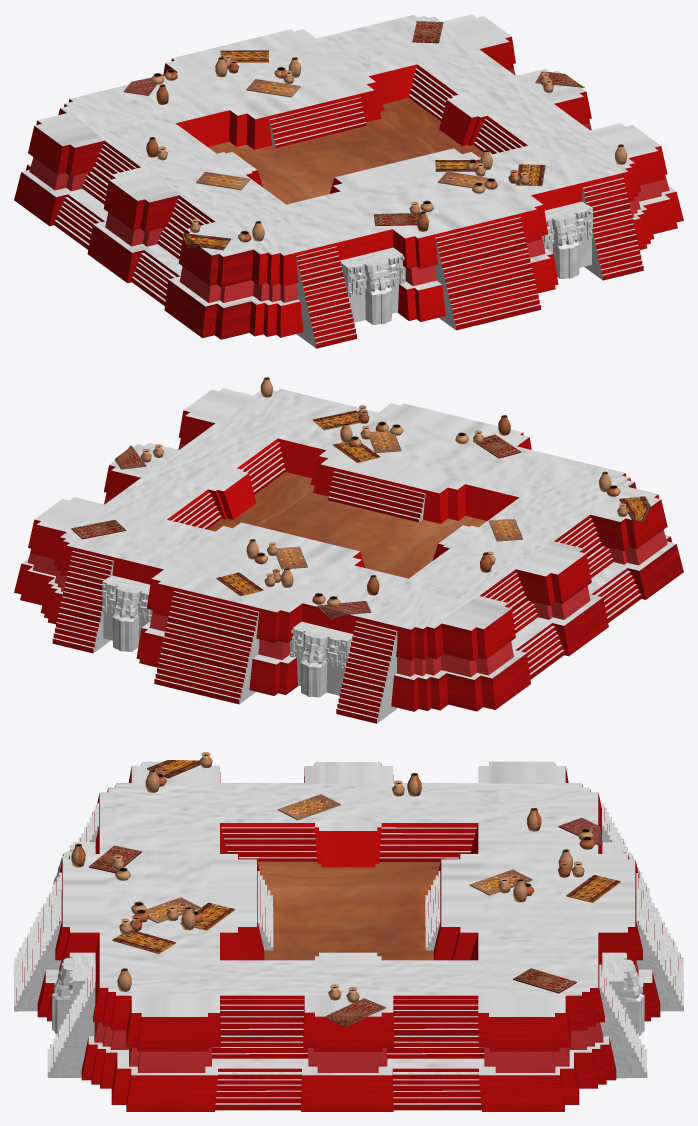
File: resevatorio.dae
3 renders of one model, top to bottom at view 1: azimuth 30°, elevation 25°; view 2: azimuth 150°, elevation 25°; view 3: azimuth 270°, elevation 25°, orthographic. The views are drawn at different scales.
Parts seen in each view (by area): view 1: resev; view 2: resev; view 3: resev.
Boxes of the visible parts, x1,y1,x2,y2 form: resev: (14,14,683,348); resev: (14,377,683,723); resev: (14,752,683,1111).
Bounding box in the file's own units: 37.71 × 39.06 × 7.42.
